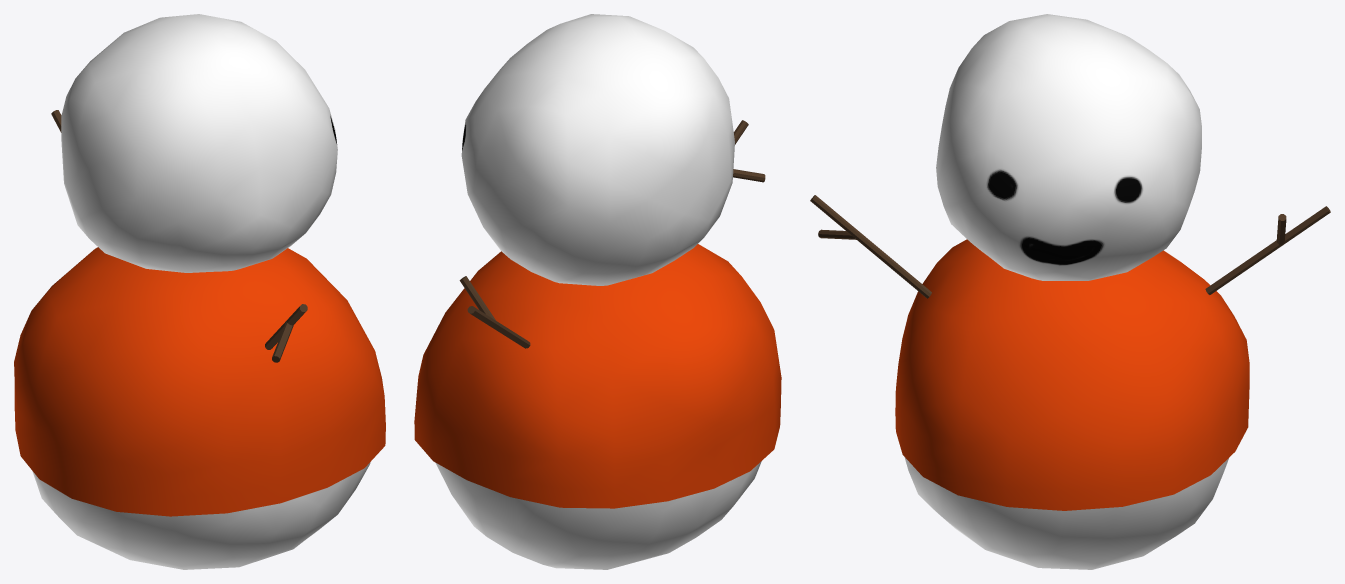
The model's file is miniSnowMan.glb.
The picture shows the model from 3 angles, left to right: view 1: azimuth 30°, elevation 25°; view 2: azimuth 150°, elevation 25°; view 3: azimuth 270°, elevation 25°; orthographic projection. The views are drawn at different scales.
Visible parts, largest first — view 1: Main, body, arms; view 2: Main, body, arms; view 3: Main, body, arms.
Part boxes in pixels (x1,y1,x2,y2): Main: (14,247,385,516); body: (32,14,370,569); arms: (51,110,307,362); Main: (414,244,781,508); body: (435,14,761,569); arms: (459,120,765,348); Main: (895,239,1249,510); body: (904,14,1228,569); arms: (810,195,1330,298).
Bounding box in the file's own units: 0.6983 × 1.1 × 0.9997.
3 materials, 1 textured.
